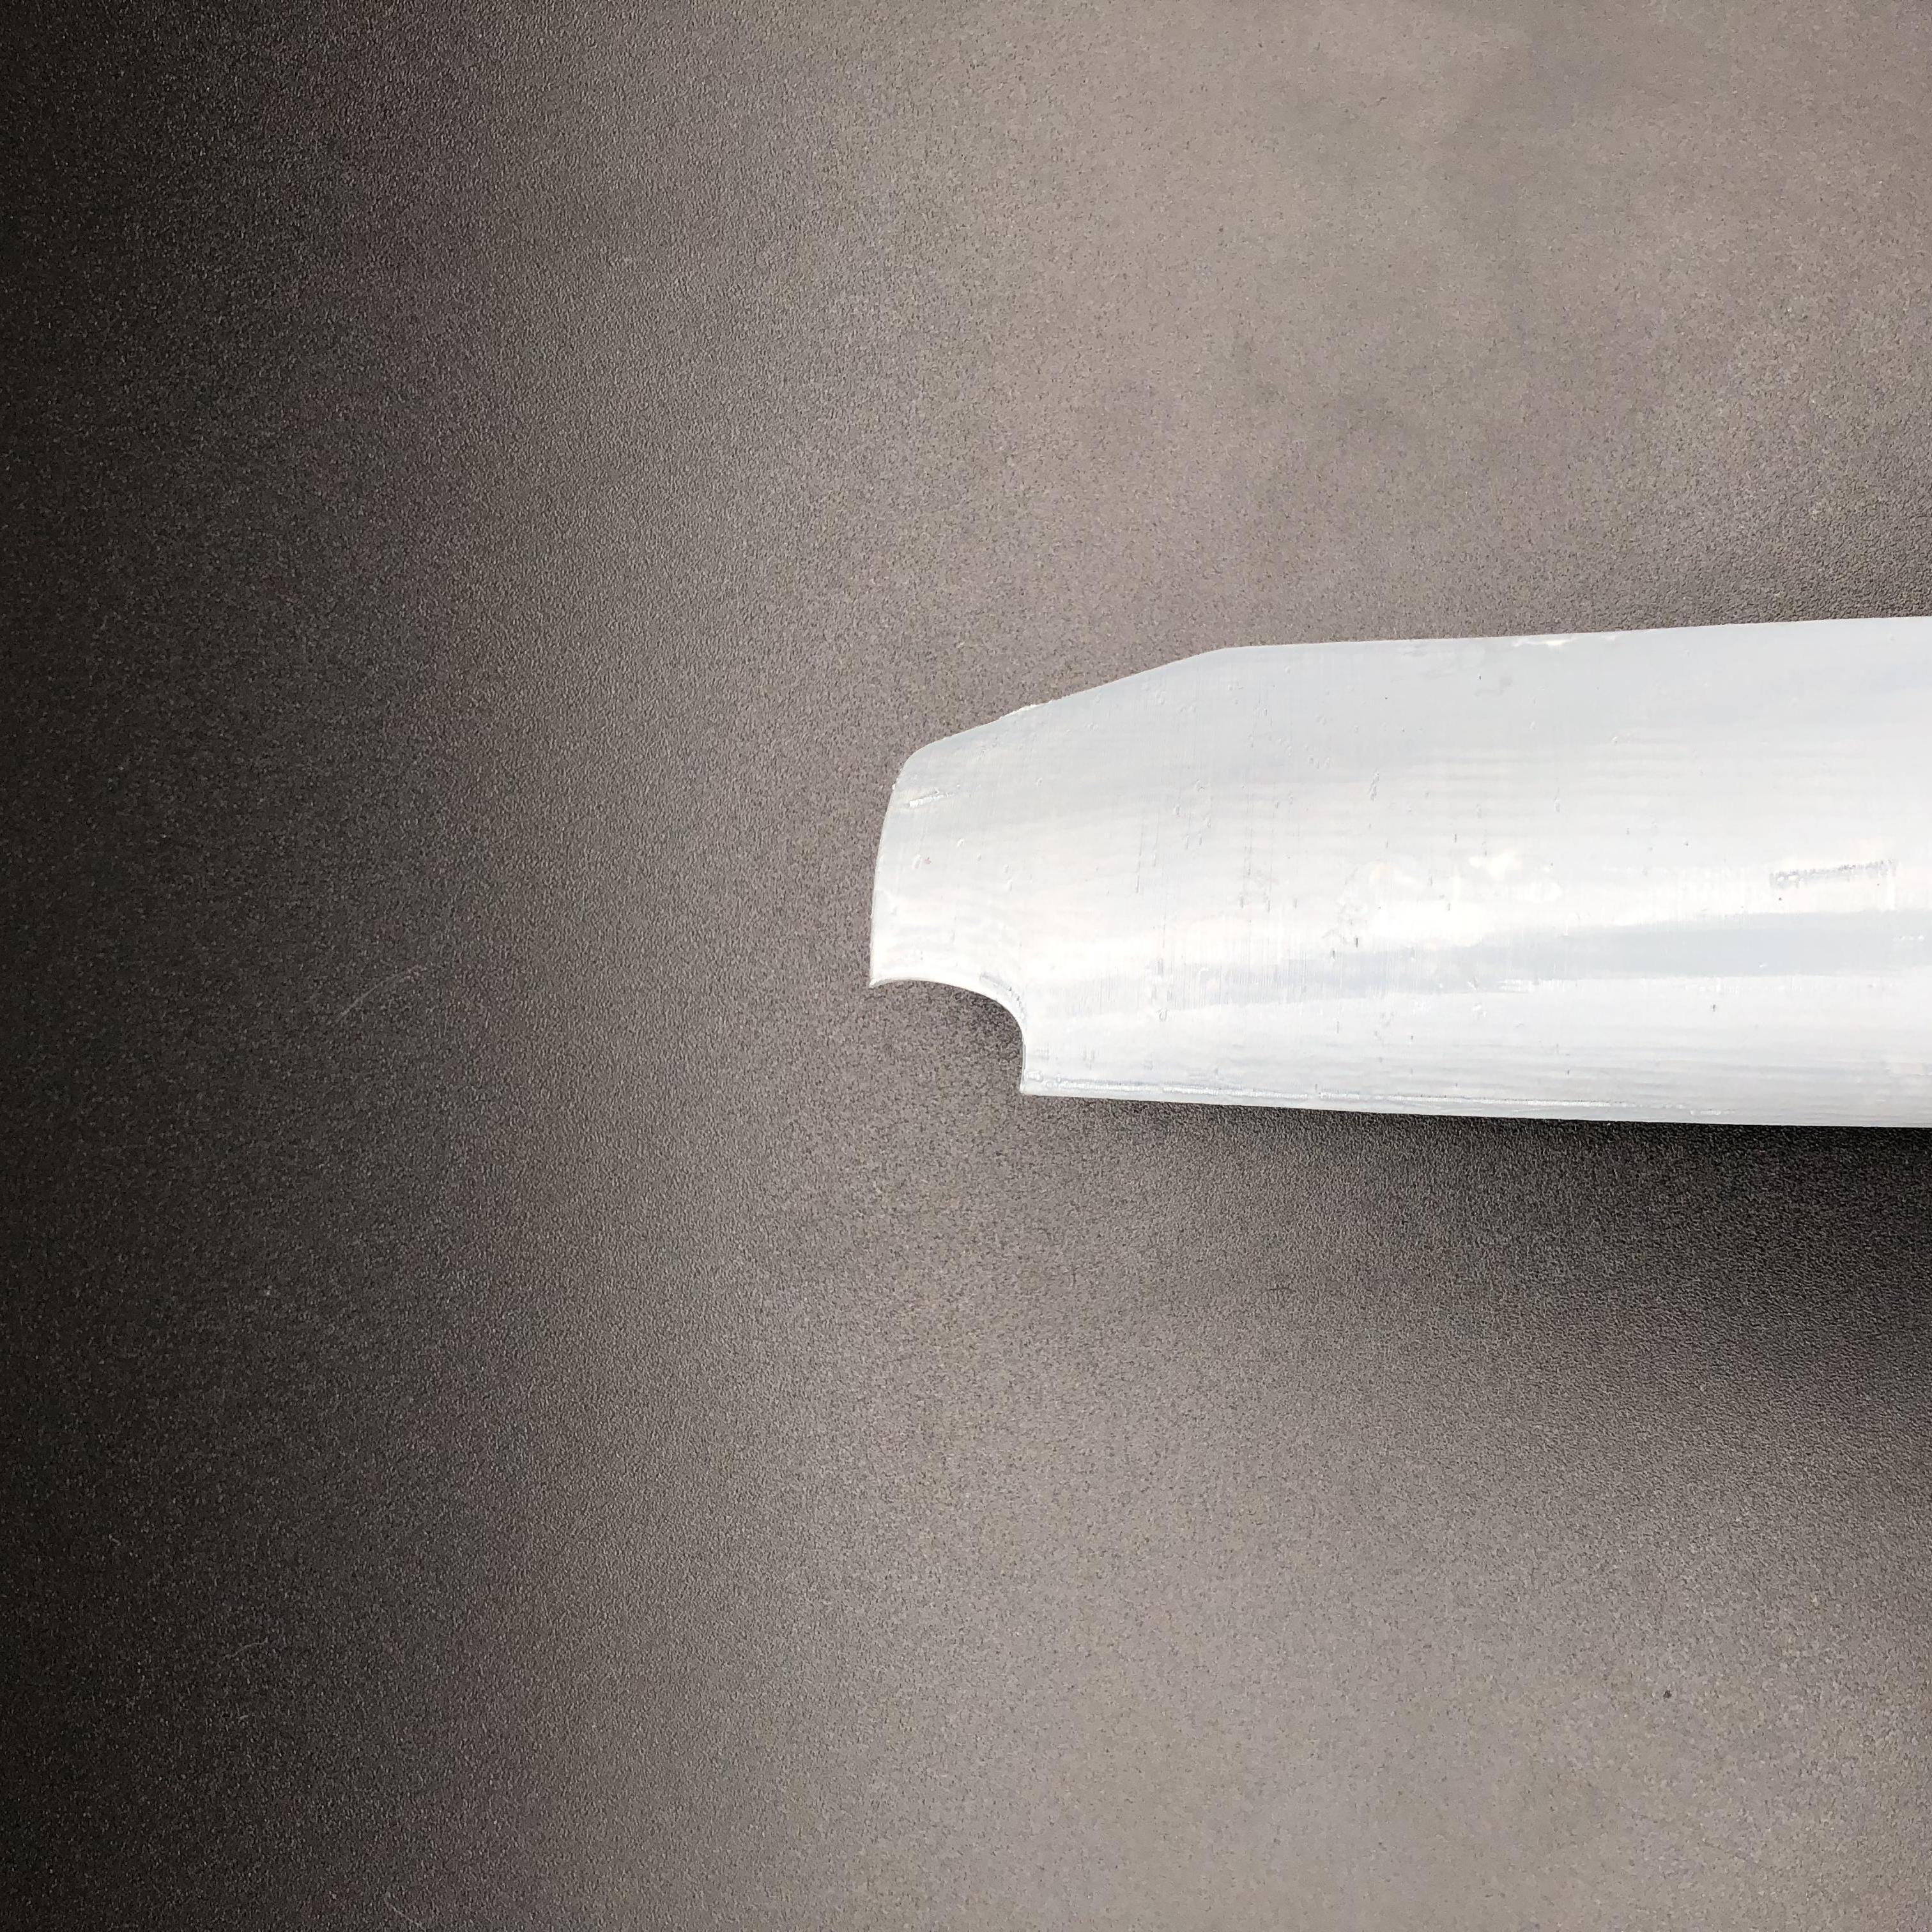fracture: (856, 948, 1069, 1111)
